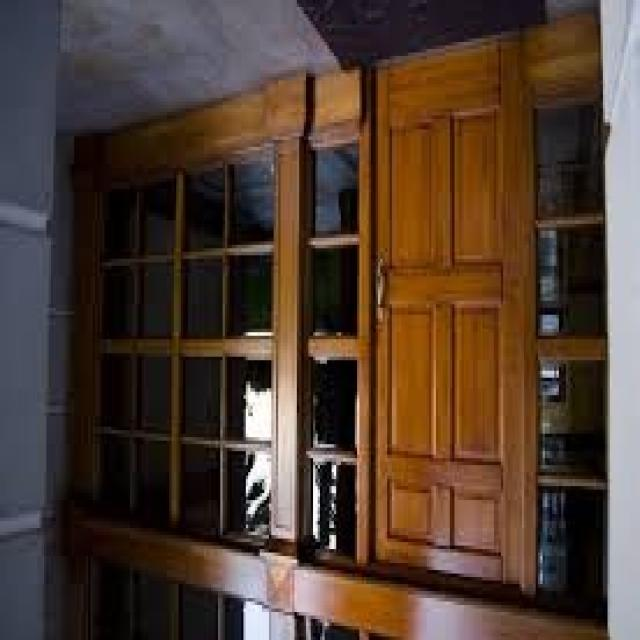door: (370, 33, 537, 593)
